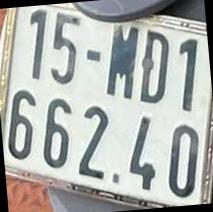-: (85, 48, 103, 64)
.: (112, 171, 121, 184)
0: (167, 123, 200, 197)
1: (26, 8, 49, 81), (177, 36, 196, 113)
2: (77, 105, 109, 181)
4: (128, 116, 159, 191)
5: (50, 11, 80, 85)
6: (41, 98, 73, 171), (8, 90, 37, 163)
D: (142, 30, 170, 106)
M: (104, 23, 136, 101)
